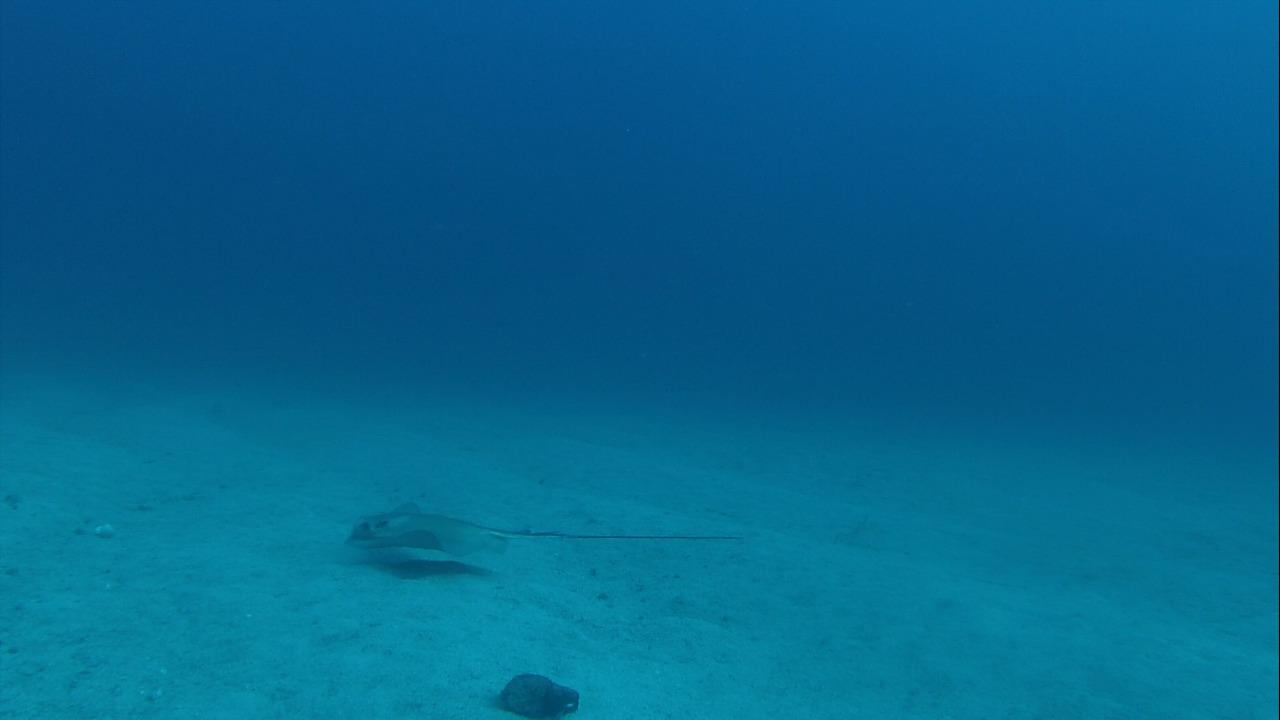myliobatis: (340, 499, 742, 561)
